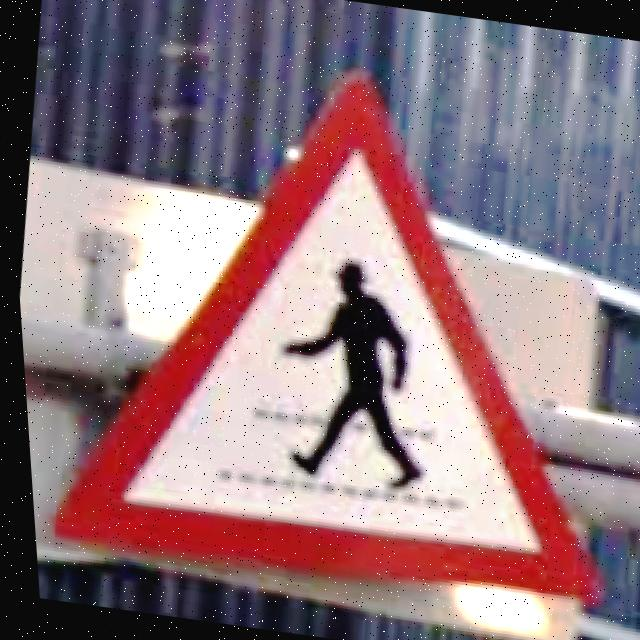pedestriancross: (47, 71, 591, 604)
